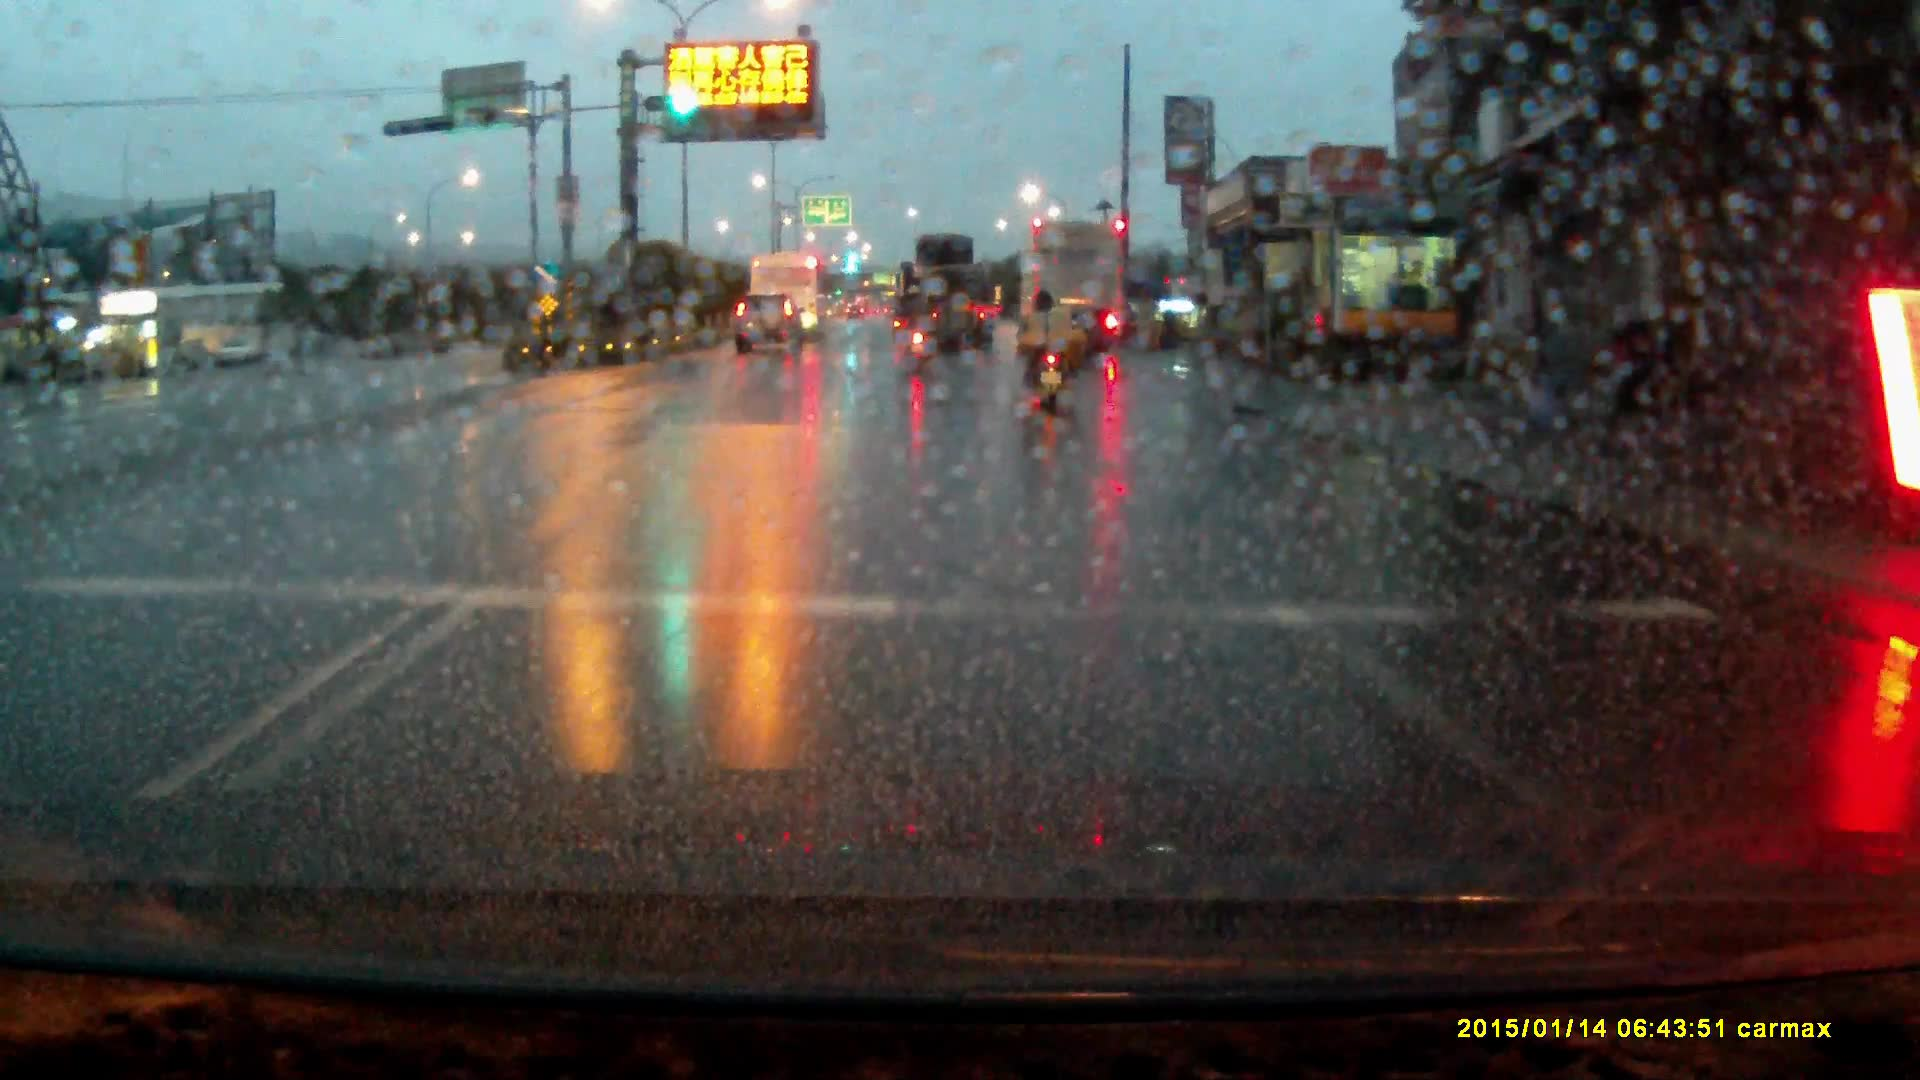rider: (1018, 286, 1085, 414), (902, 283, 939, 368)
vehicle: (1027, 219, 1124, 355), (899, 232, 997, 347), (755, 245, 830, 330), (732, 293, 807, 359)
